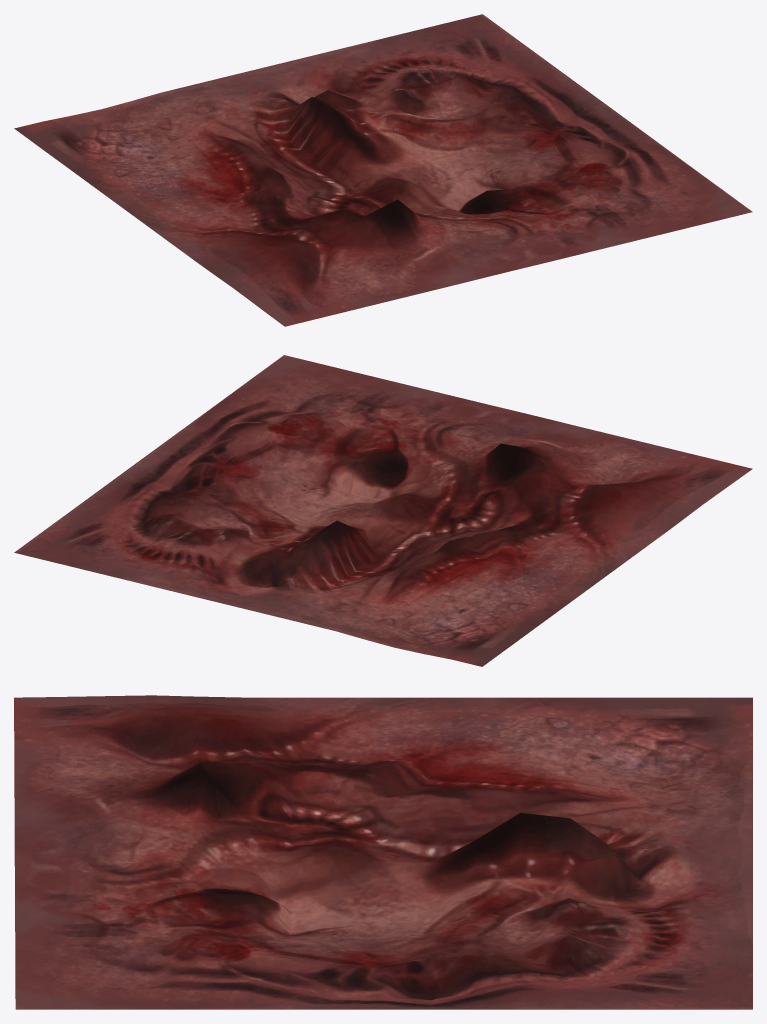
File: ceiling.dae
The picture shows the model from 3 angles, top to bottom: view 1: azimuth 30°, elevation 25°; view 2: azimuth 150°, elevation 25°; view 3: azimuth 270°, elevation 25°; orthographic projection. The views are drawn at different scales.
Parts seen in each view (by area): view 1: ZBrush_defualt_group; view 2: ZBrush_defualt_group; view 3: ZBrush_defualt_group.
Boxes of the visible parts, left/top/right/bottom form: ZBrush_defualt_group: left=14, top=14, right=752, bottom=326; ZBrush_defualt_group: left=14, top=355, right=752, bottom=666; ZBrush_defualt_group: left=14, top=695, right=752, bottom=1009.
Bounding box in the file's own units: 3.9 × 0.4424 × 3.9.
